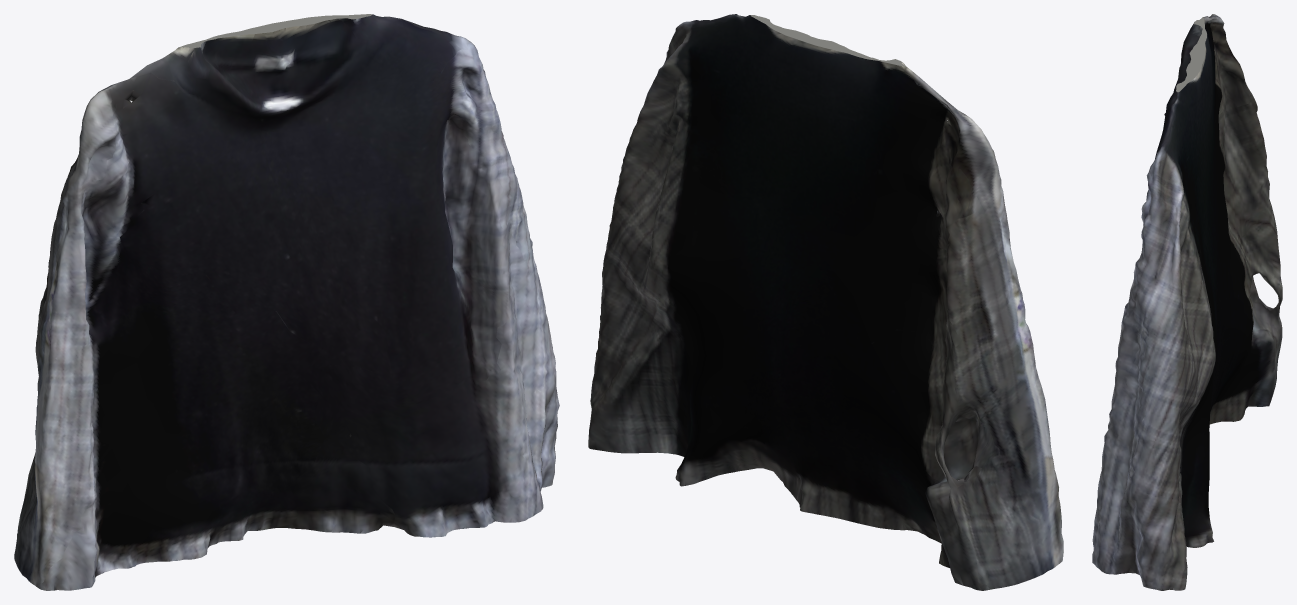
The model's file is black_girly_top.glb.
3 views of the same model, side by side, from view 1: azimuth 30°, elevation 25°; view 2: azimuth 150°, elevation 25°; view 3: azimuth 270°, elevation 25° (orthographic). The views are drawn at different scales.
Parts seen in each view (by area): view 1: 3DModel; view 2: 3DModel; view 3: 3DModel.
Part boxes in pixels (x1,y1,x2,y2): 3DModel: (14,14,559,590); 3DModel: (588,14,1063,590); 3DModel: (1092,14,1282,590).
Bounding box in the file's own units: 0.3416 × 0.3198 × 0.1293.
1 material, 1 textured.
